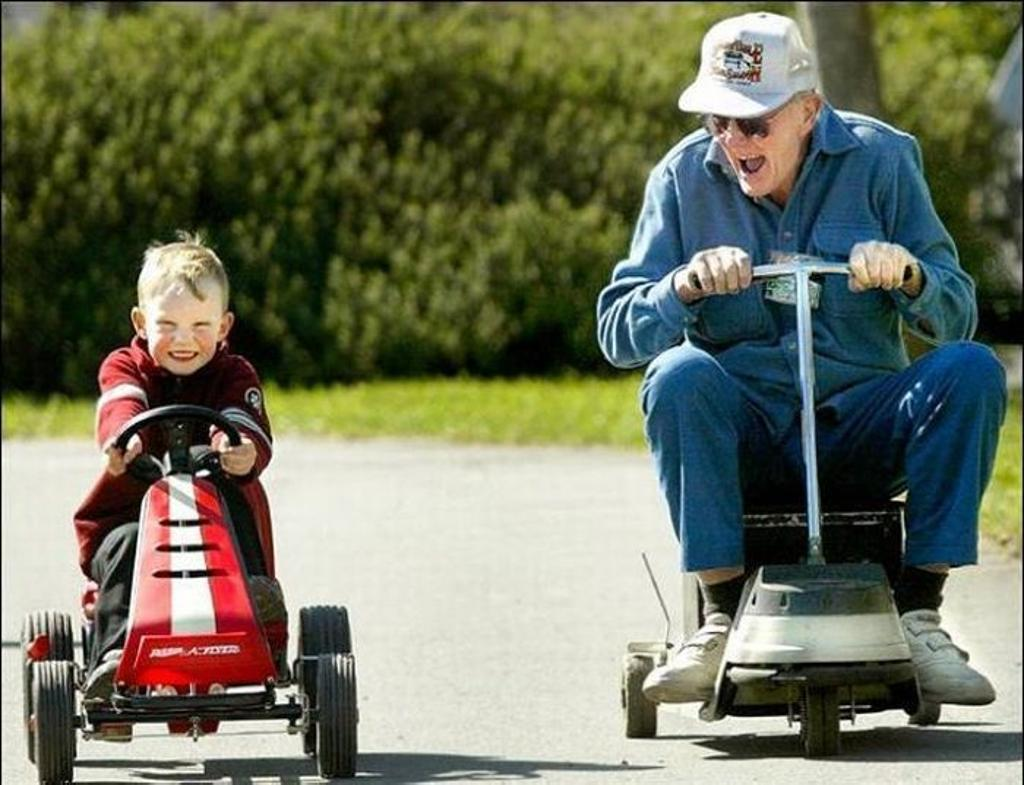face: (704, 90, 800, 202), (150, 280, 220, 372)
